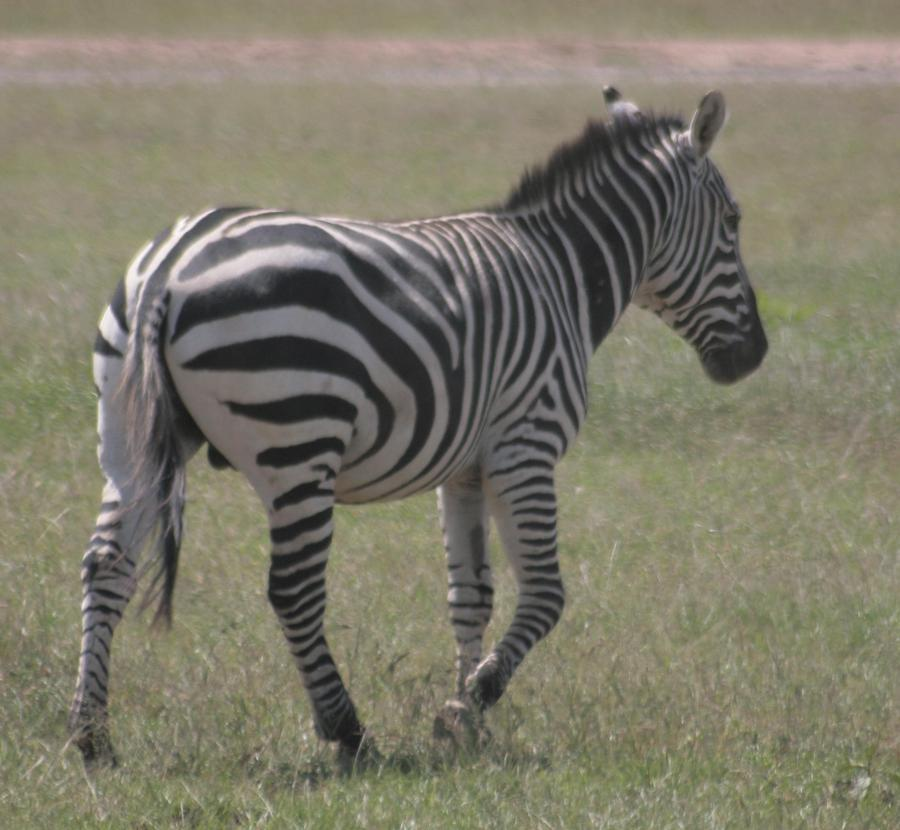zebra_plains: (213, 174, 616, 532)
